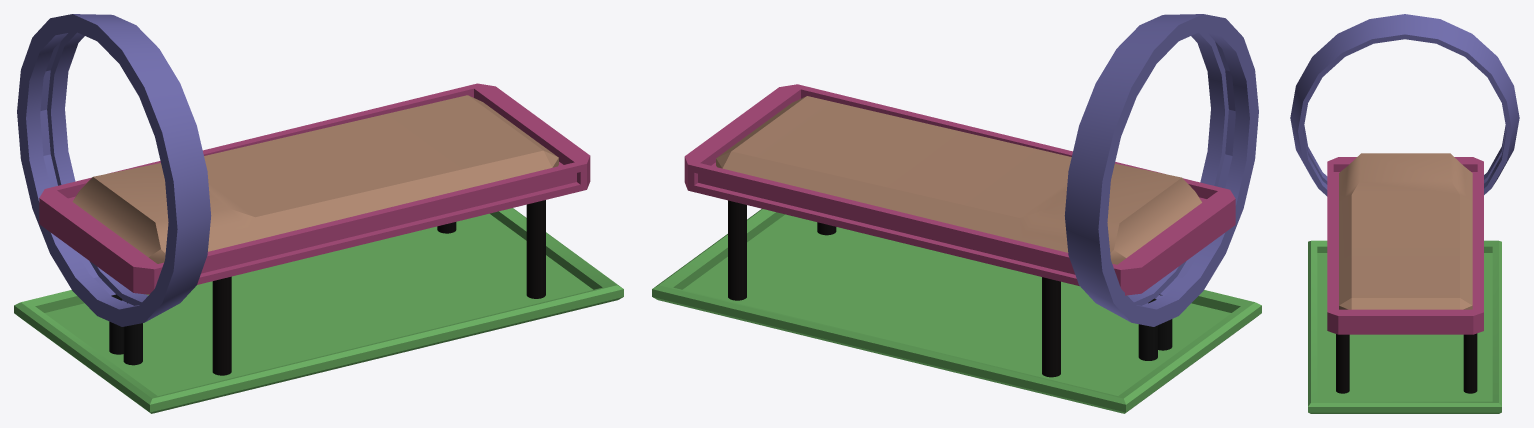
File: Camilla.fbx
The picture shows the model from 3 angles, left to right: view 1: azimuth 30°, elevation 25°; view 2: azimuth 150°, elevation 25°; view 3: azimuth 270°, elevation 25°; orthographic projection. The views are drawn at different scales.
Parts seen in each view (by area): view 1: Piso, Cama, Lampara, Camilla, pasted__pCylinder1, Tubos, pasted__pasted__pCylinder1; view 2: Piso, Cama, Lampara, Camilla, pasted__pCylinder1, pasted__pasted__pCylinder1, pasted__pasted__pasted__pCylinder1; view 3: Cama, Piso, Lampara, Camilla, pasted__pCylinder1, Tubos.
Boxes of the visible parts, <box> form: Piso: <box>14,208,623,413</box>; Cama: <box>72,95,558,263</box>; Lampara: <box>17,14,211,326</box>; Camilla: <box>39,83,590,294</box>; pasted__pCylinder1: <box>212,276,231,375</box>; Tubos: <box>526,200,545,298</box>; pasted__pasted__pCylinder1: <box>123,302,142,365</box>; Piso: <box>652,209,1261,413</box>; Cama: <box>716,96,1201,264</box>; Lampara: <box>1064,14,1258,326</box>; Camilla: <box>684,84,1235,295</box>; pasted__pCylinder1: <box>728,200,746,300</box>; pasted__pasted__pCylinder1: <box>1042,277,1060,377</box>; pasted__pasted__pasted__pCylinder1: <box>1138,298,1157,360</box>; Cama: <box>1339,153,1472,309</box>; Piso: <box>1308,240,1501,413</box>; Lampara: <box>1290,14,1519,196</box>; Camilla: <box>1327,157,1483,334</box>; pasted__pCylinder1: <box>1463,333,1477,393</box>; Tubos: <box>1336,334,1349,393</box>.
Bounding box in the file's own units: 3.69 × 2.51 × 2.16.
